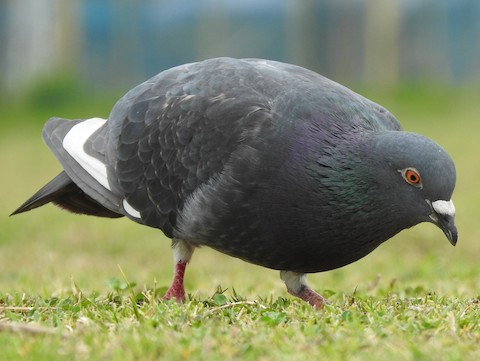pigeon: (6, 50, 465, 325)
